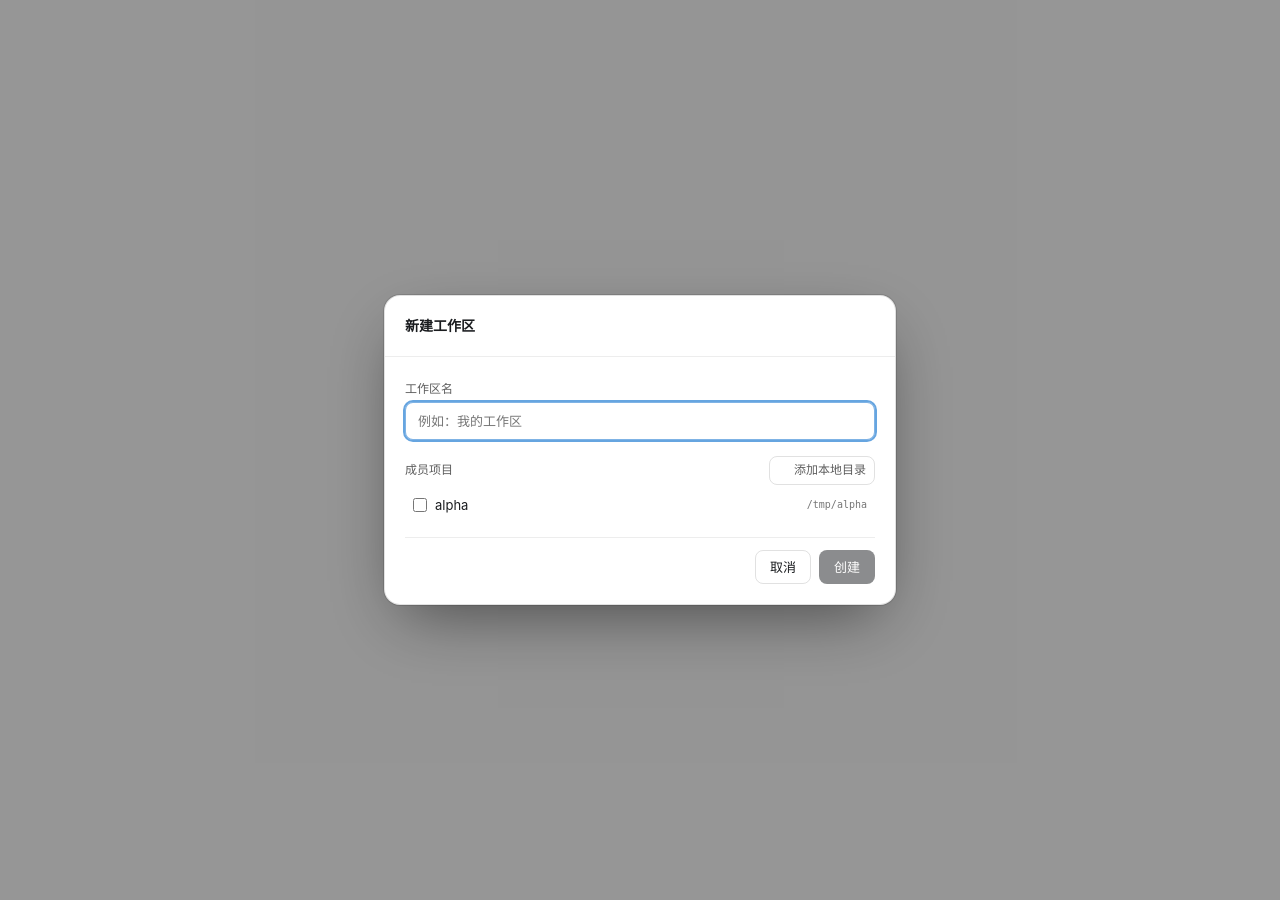
工作区对话框：就地添加本地目录 › 添加失败就地显示错误（模态遮着侧栏，错误必须在这一层可见）
Click the button "添加本地目录": (822, 471) [769,456,875,485]
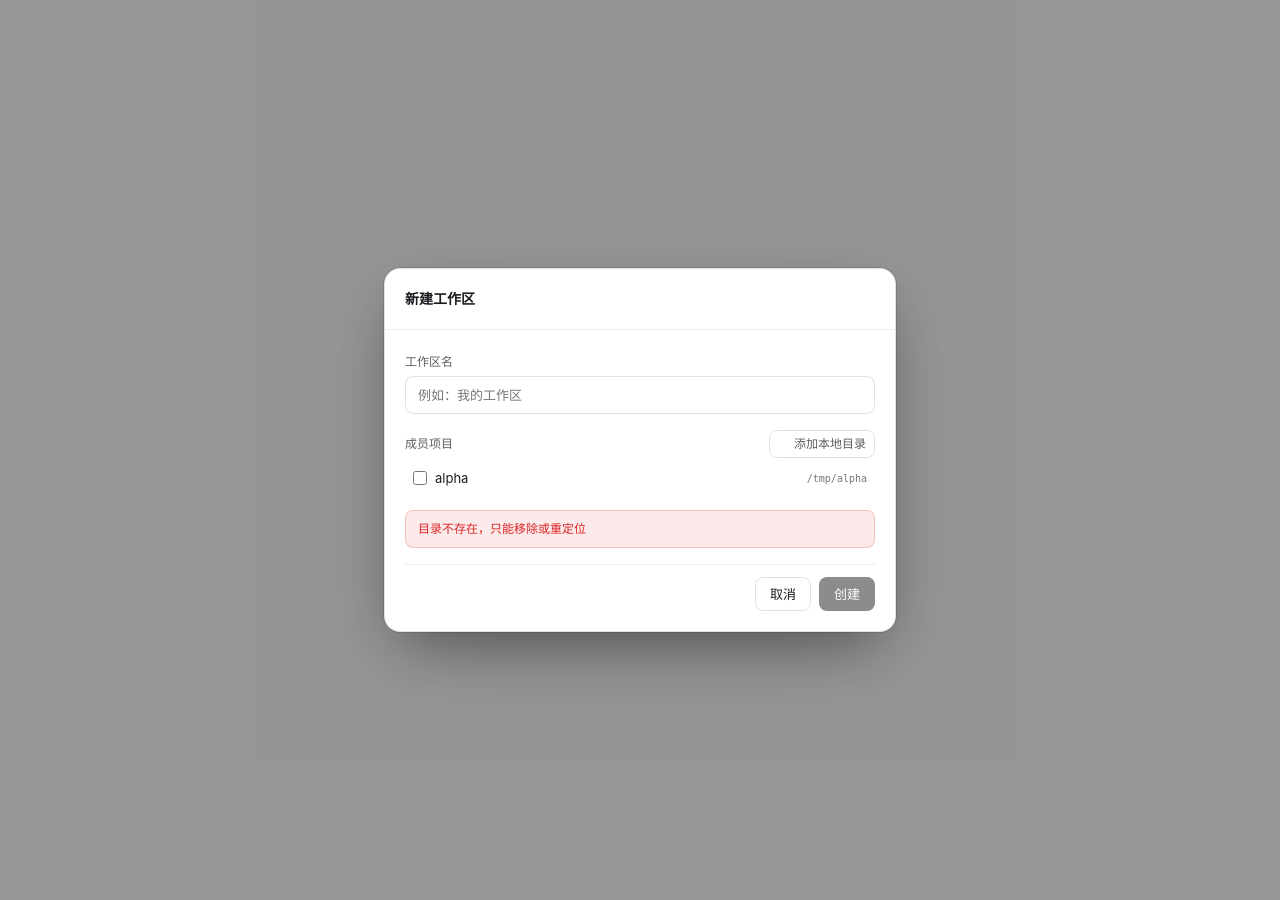
Check: the message "目录不存在，只能移除或重定位" is shown, box [405,510,875,548]
